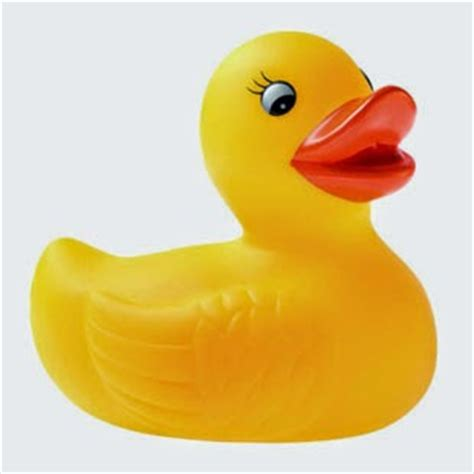???: (28, 31, 438, 444)
